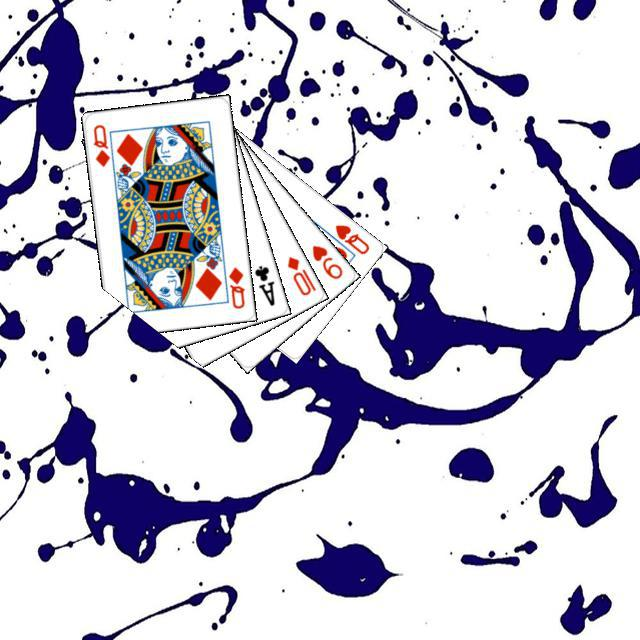10d: (282, 251, 318, 297)
9h: (307, 240, 344, 281)
Ac: (249, 260, 276, 308)
Qd: (88, 120, 112, 169), (224, 262, 246, 310)
Qh: (330, 219, 371, 256)
